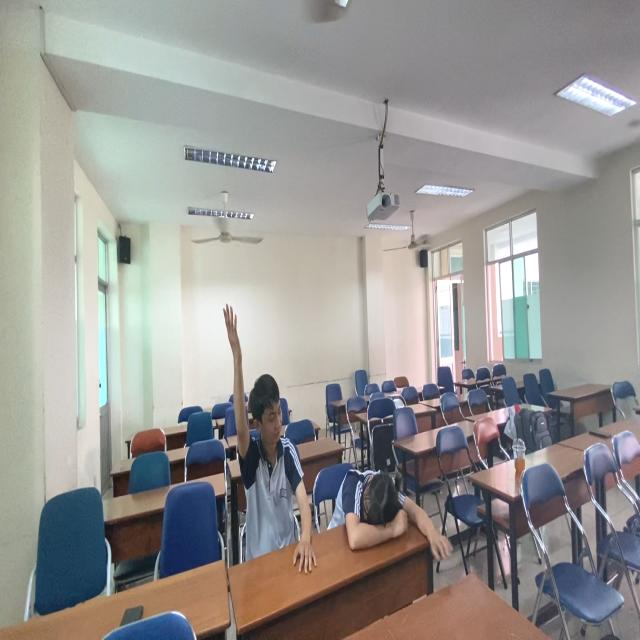raise_hand: (214, 308, 315, 577)
sleep: (323, 455, 442, 557)
